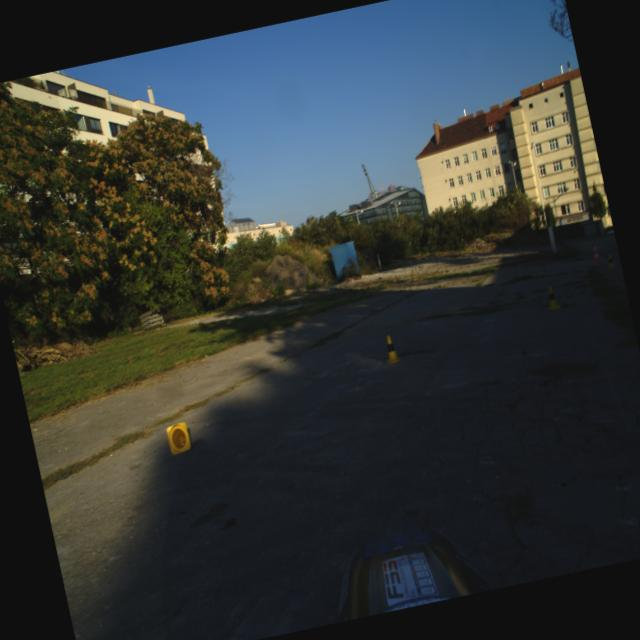large_orange_cone: (588, 242, 602, 263)
yellow_cone: (165, 421, 192, 455), (380, 333, 402, 365), (542, 284, 562, 312), (604, 253, 616, 270)
